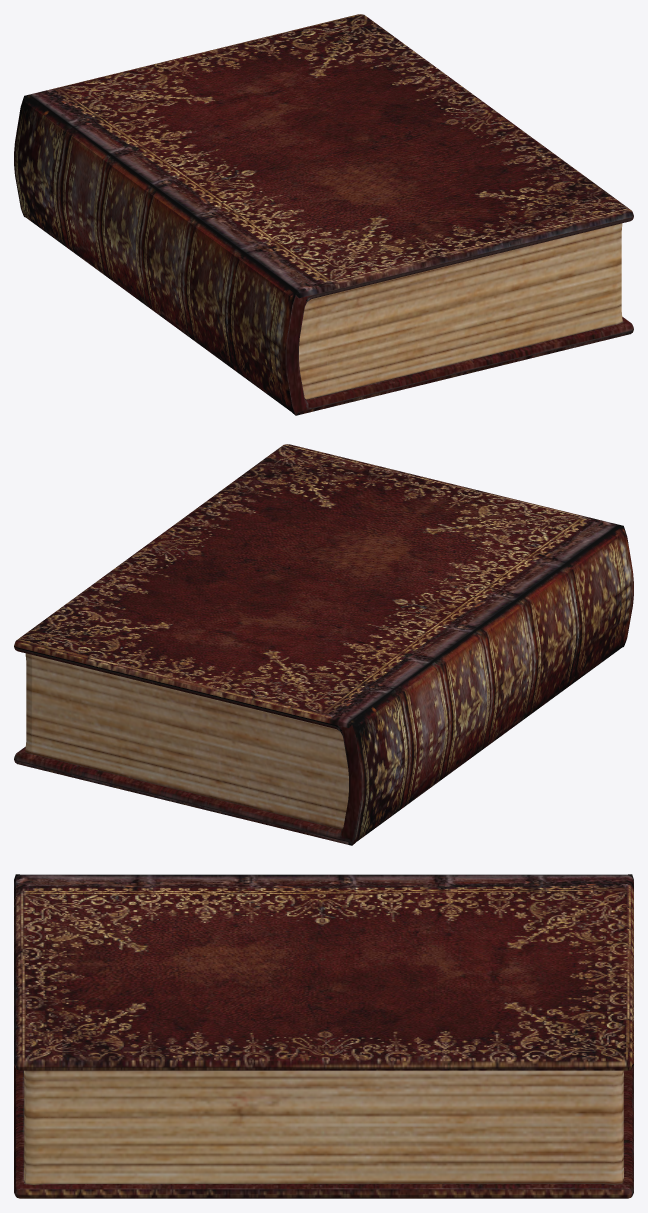
File: boook.fbx
3 views of the same model, one above another, from view 1: azimuth 30°, elevation 25°; view 2: azimuth 150°, elevation 25°; view 3: azimuth 270°, elevation 25° (orthographic). The views are drawn at different scales.
Visible parts, largest first — view 1: pCube1; view 2: pCube1; view 3: pCube1.
Part boxes in pixels (x1,y1,x2,y2): pCube1: [14, 14, 633, 415]; pCube1: [14, 444, 633, 845]; pCube1: [14, 874, 633, 1198].
Size of the model in its own units: 5.15 by 1.74 by 6.94.
1 material, 1 textured.
